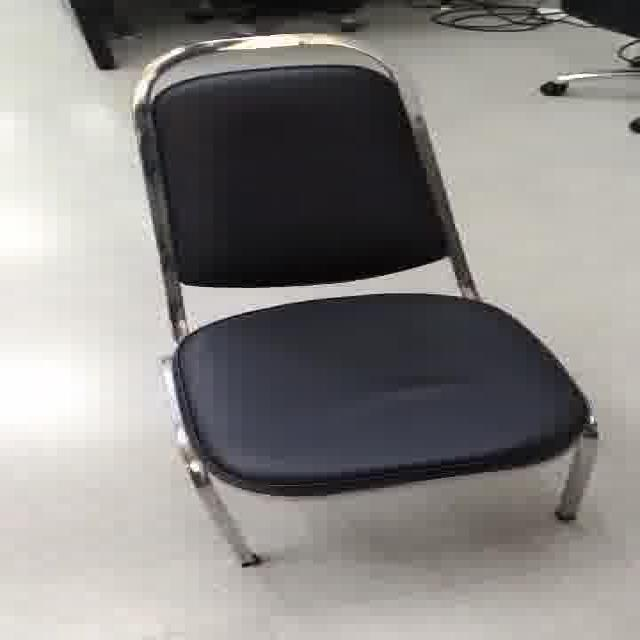chair: (85, 29, 621, 579)
